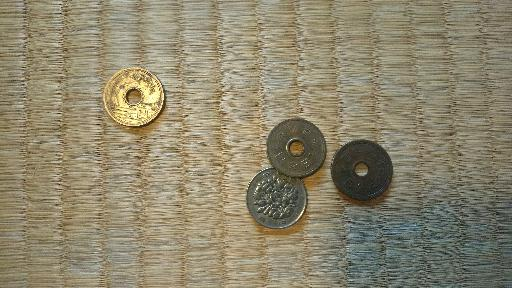100yen: (247, 168, 306, 228)
